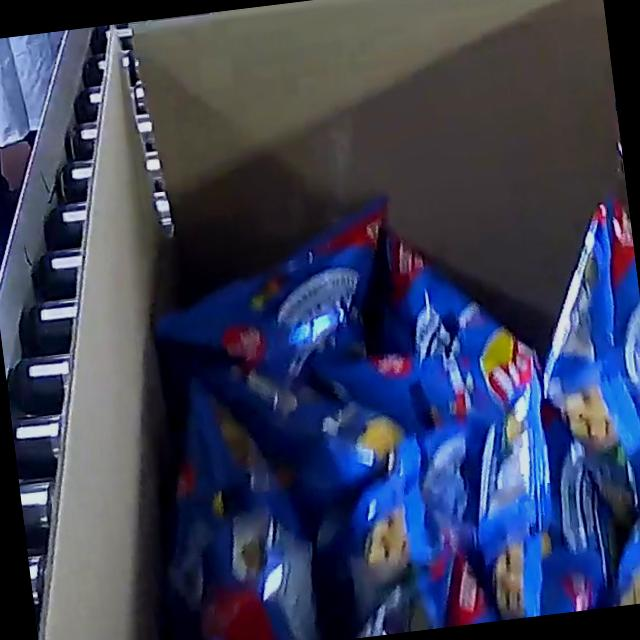paprika: (105, 165, 640, 640)
